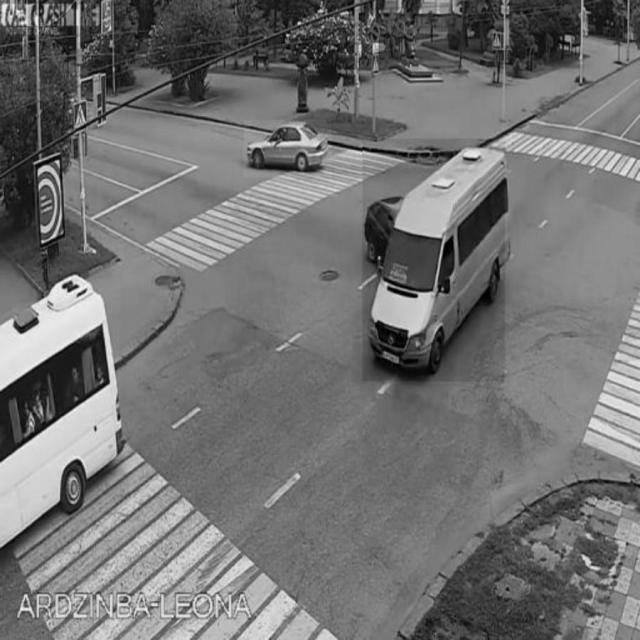accident: (362, 140, 506, 382)
vehicle: (1, 279, 121, 540), (244, 120, 332, 177)
